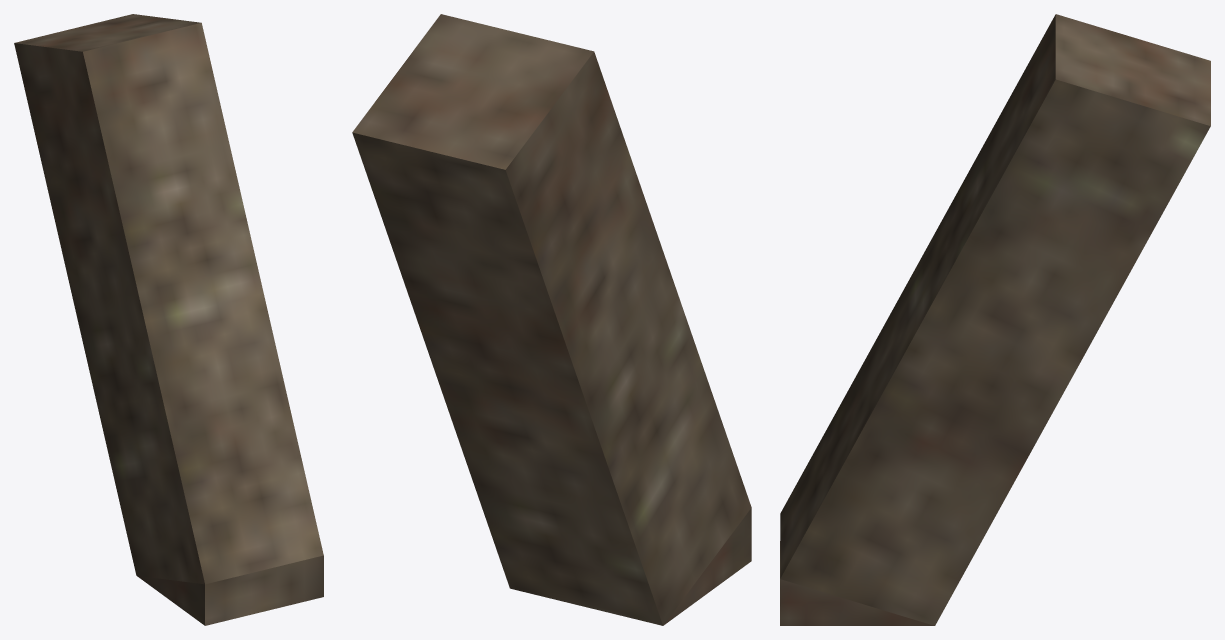
The model's file is whitebeam_branch_22.5_straight.obj.
The picture shows the model from 3 angles, left to right: view 1: azimuth 30°, elevation 25°; view 2: azimuth 150°, elevation 25°; view 3: azimuth 270°, elevation 25°; orthographic projection. The views are drawn at different scales.
Parts seen in each view (by area): view 1: cube; view 2: cube; view 3: cube.
Boxes of the visible parts, bbox=[...] form: cube: bbox=[14, 14, 323, 625]; cube: bbox=[352, 14, 751, 625]; cube: bbox=[780, 14, 1210, 625].
Bounding box in the file's own units: 0.5615 × 2.19 × 1.56.
